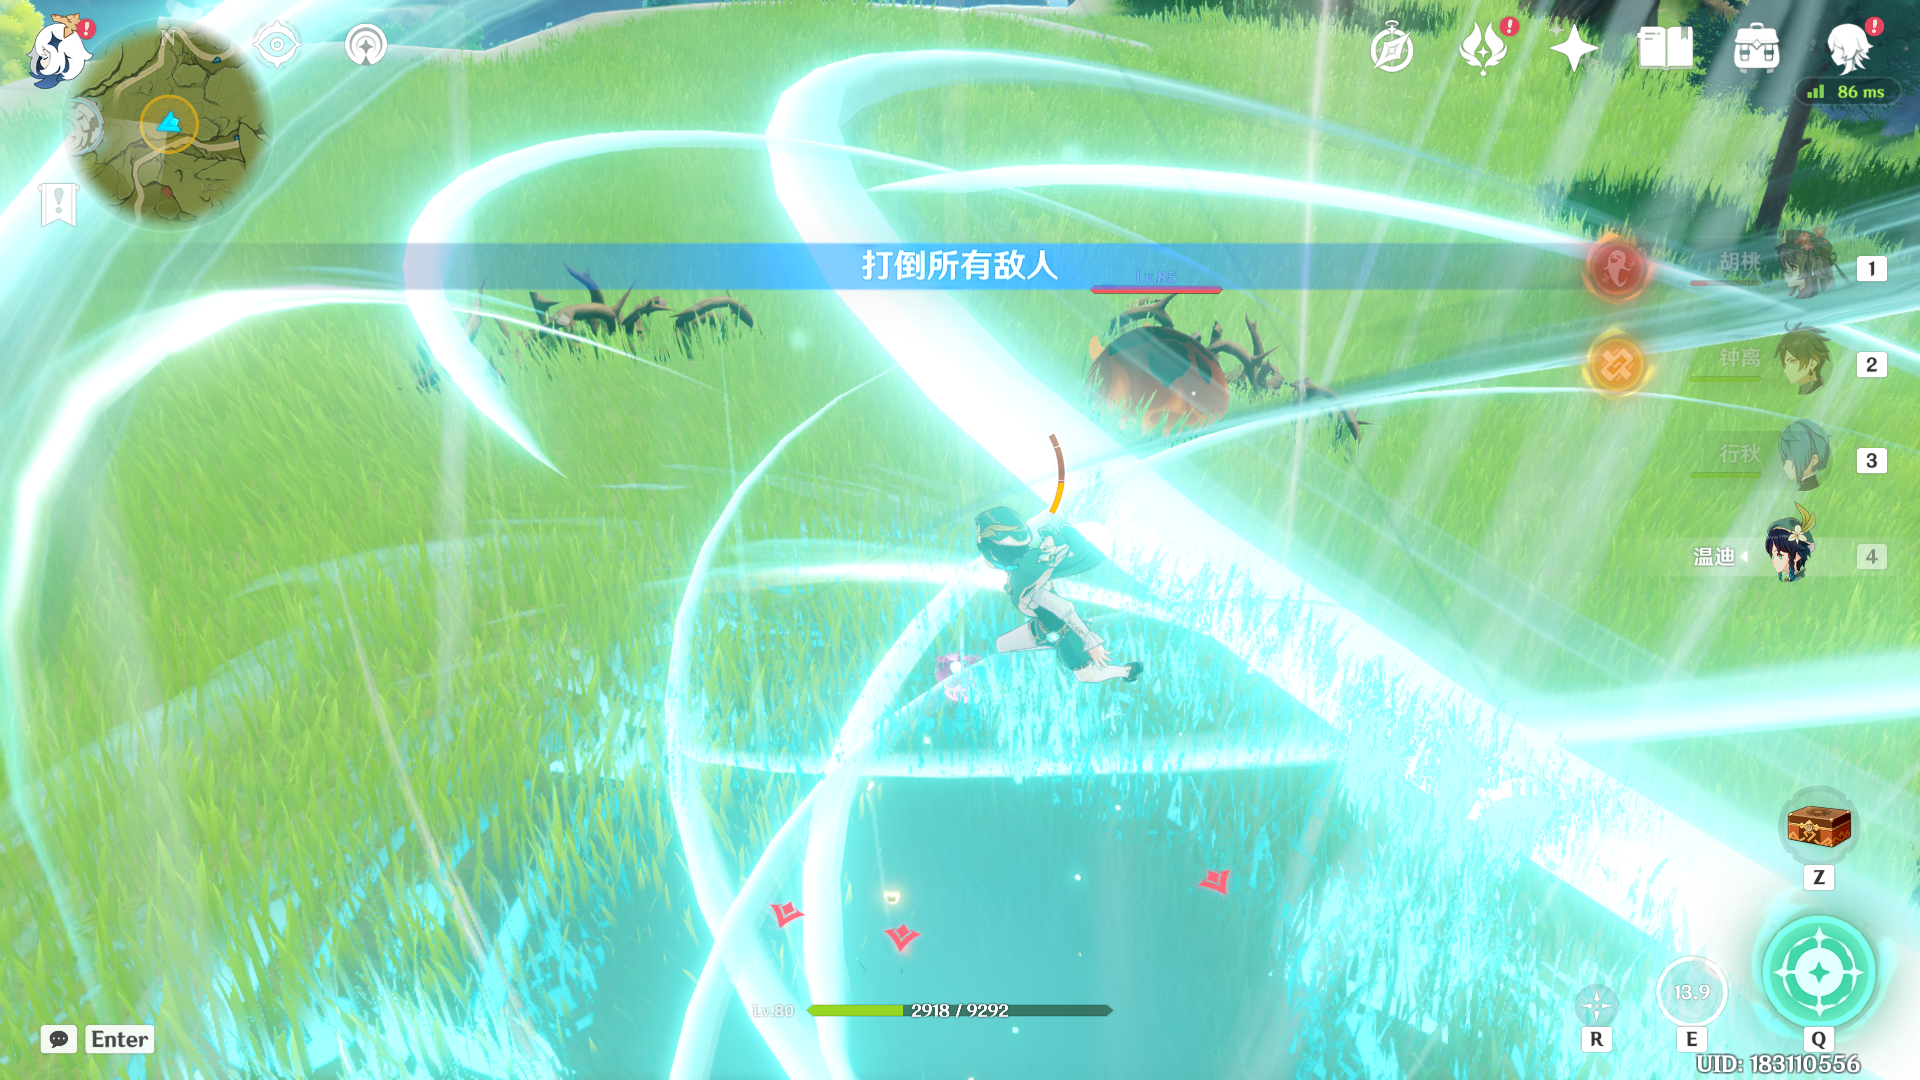character: (872, 425, 1150, 752)
slime: (1059, 320, 1238, 460)
